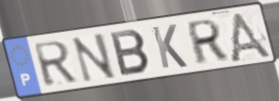A: (227, 10, 275, 63)
B: (108, 28, 154, 78)
K: (149, 23, 190, 71)
N: (70, 31, 119, 85)
R: (31, 39, 79, 89), (186, 17, 229, 67)
